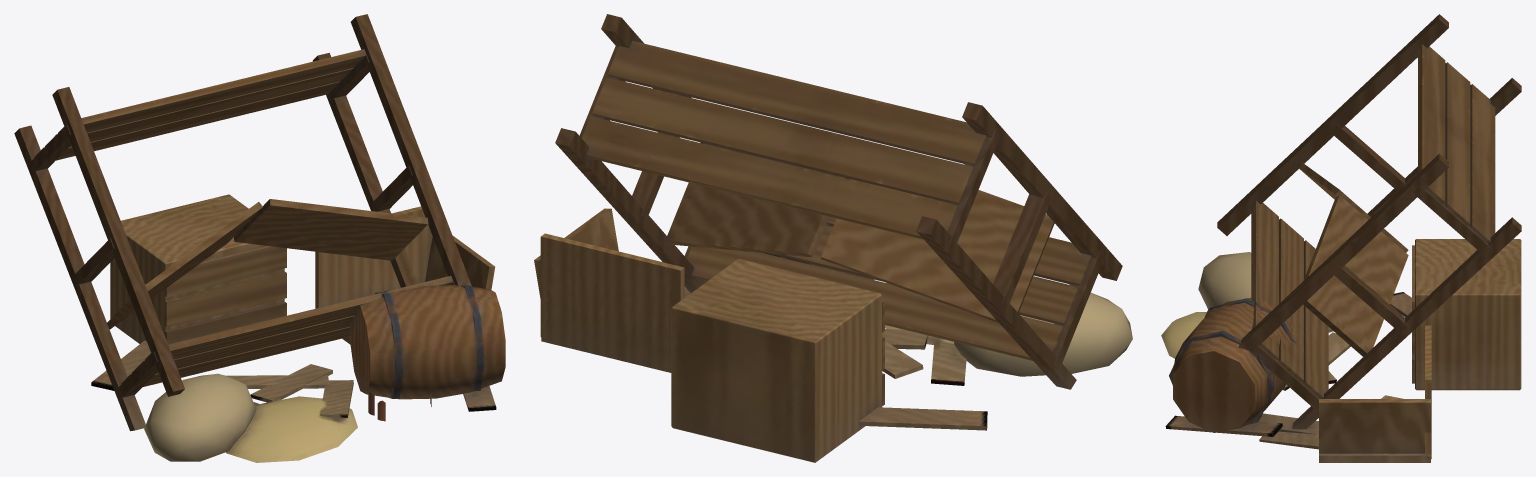
Rendered from wreck-heap.glb.
The picture shows the model from 3 angles, left to right: view 1: azimuth 30°, elevation 25°; view 2: azimuth 150°, elevation 25°; view 3: azimuth 270°, elevation 25°; orthographic projection. The views are drawn at different scales.
Visible parts, largest first — view 1: wreck-heap; view 2: wreck-heap; view 3: wreck-heap.
Boxes of the visible parts, x1,y1,x2,y2 form: wreck-heap: (14,14,505,462); wreck-heap: (534,14,1132,462); wreck-heap: (1161,14,1521,462).
Size of the model in its own units: 1.62 by 1.14 by 1.35.
1 material, 1 textured.
